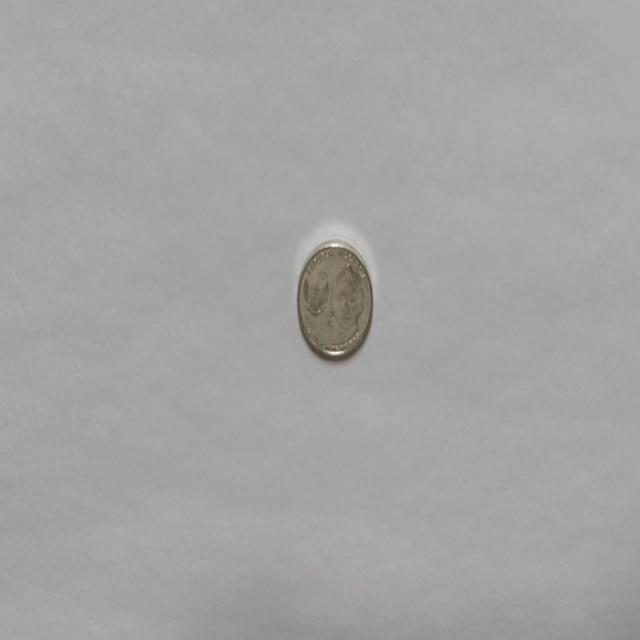dua ratus rupiah: (296, 238, 374, 360)
